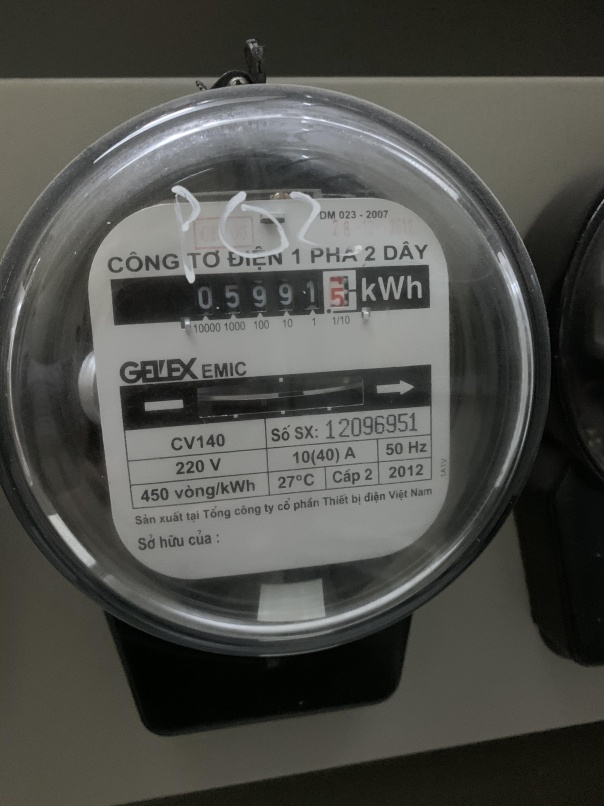counter: (108, 265, 431, 326)
electricity_meter: (2, 84, 547, 654)
